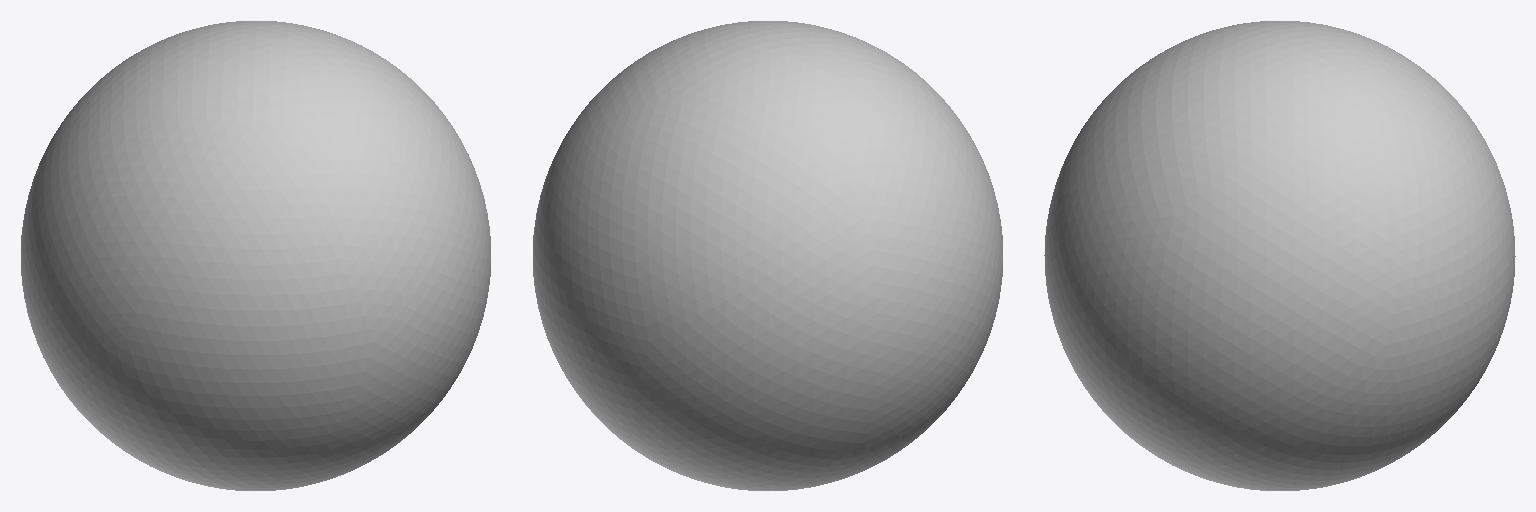
Rendered from lamp.obj.
The picture shows the model from 3 angles: view 1: azimuth 30°, elevation 25°; view 2: azimuth 150°, elevation 25°; view 3: azimuth 270°, elevation 25°; orthographic projection.
Visible parts, largest first — view 1: Object.1; view 2: Object.1; view 3: Object.1.
Part boxes in pixels (left/top/right/bottom): Object.1: left=21, top=21, right=490, bottom=490; Object.1: left=533, top=21, right=1002, bottom=490; Object.1: left=1044, top=21, right=1515, bottom=490.
Bounding box in the file's own units: 4 × 4 × 4.